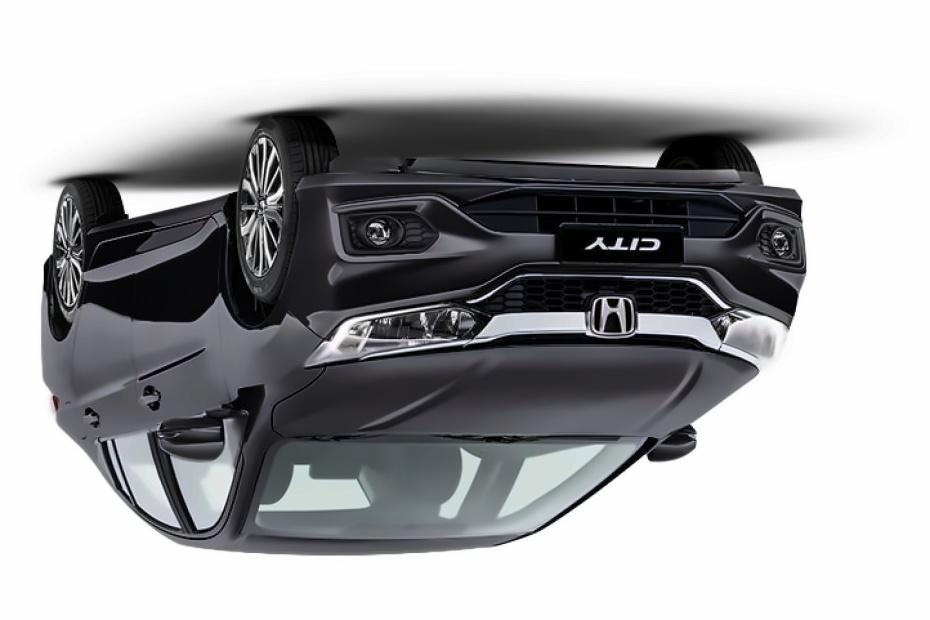Car hood: (268, 335, 764, 444)
Fender - -F-L-: (217, 202, 329, 449)
Fender - -R-L-: (40, 326, 75, 391)
Front bumper: (282, 155, 814, 322)
Headlight - -L-: (297, 295, 497, 374)
Headlight - -R-: (701, 300, 791, 373)
Passenger-s door - -F-L-: (136, 215, 234, 545)
Passenger-s door - -R-L-: (63, 229, 154, 528)
Rear bumper: (32, 252, 60, 313)
Rear light - -L-: (44, 383, 69, 421)
Side bumper - -L-: (73, 185, 245, 257)
Side mirror - -L-: (153, 405, 244, 465)
Side mirror - -R-: (640, 420, 703, 469)
